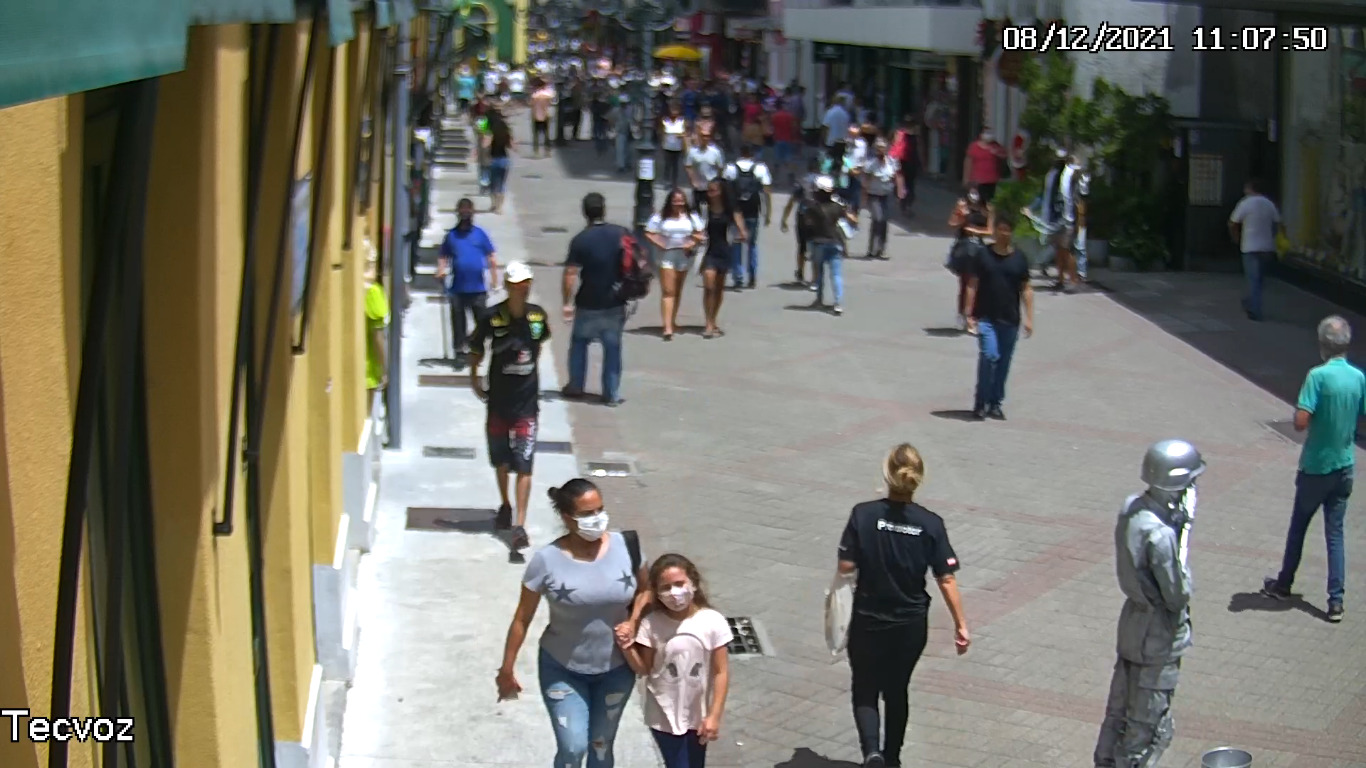pedestrian: (825, 443, 969, 768), (496, 479, 654, 768), (1269, 312, 1366, 624), (615, 553, 733, 768), (467, 261, 550, 550), (560, 194, 652, 407), (965, 219, 1035, 423), (435, 197, 498, 369), (645, 188, 703, 342), (1225, 178, 1285, 319), (695, 179, 747, 338), (800, 178, 856, 315)
